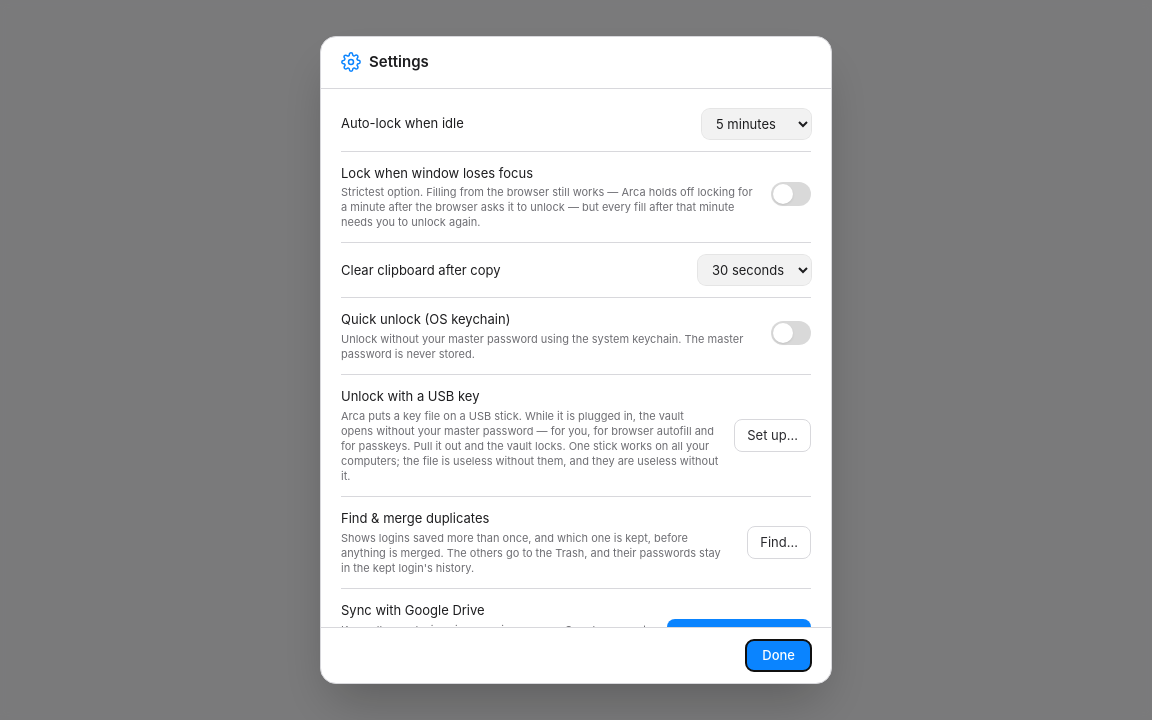
Test: keeps the persisted security setting visible if saving fails
The width and height of the screenshot is (1152, 720).
Click the switch named "Lock when window loses focus": click(791, 194) 771,182 -> 811,206
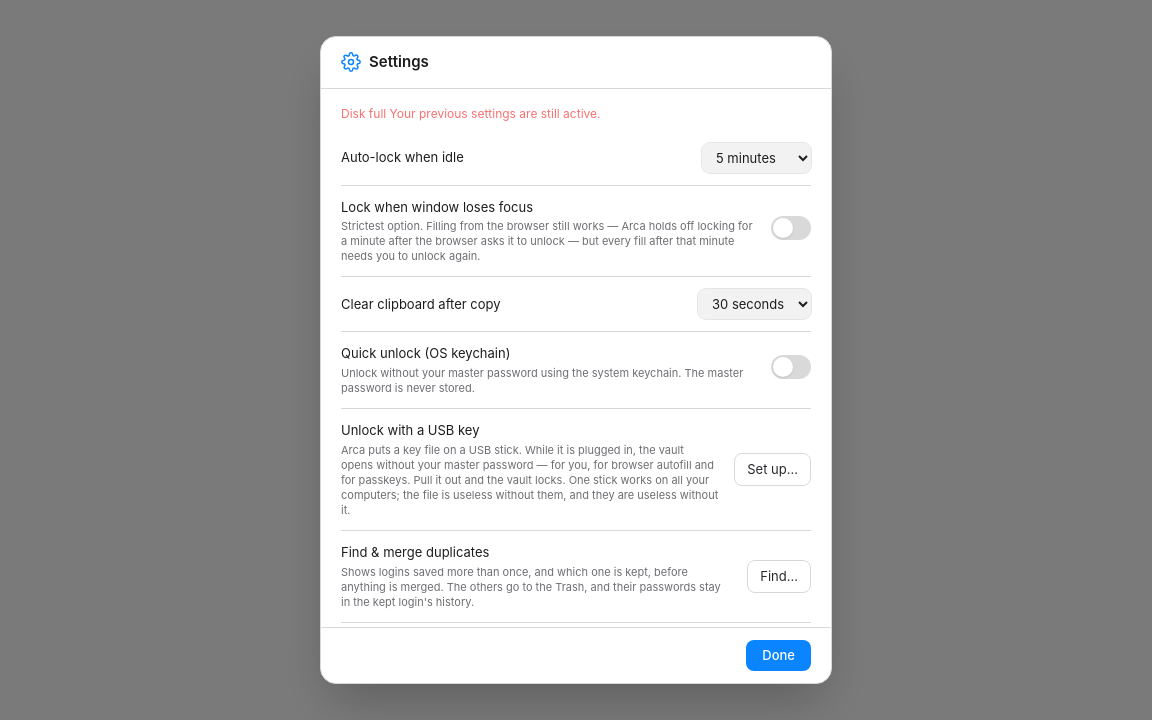
Result: the message shows "Disk full" at 341,106 -> 386,120
